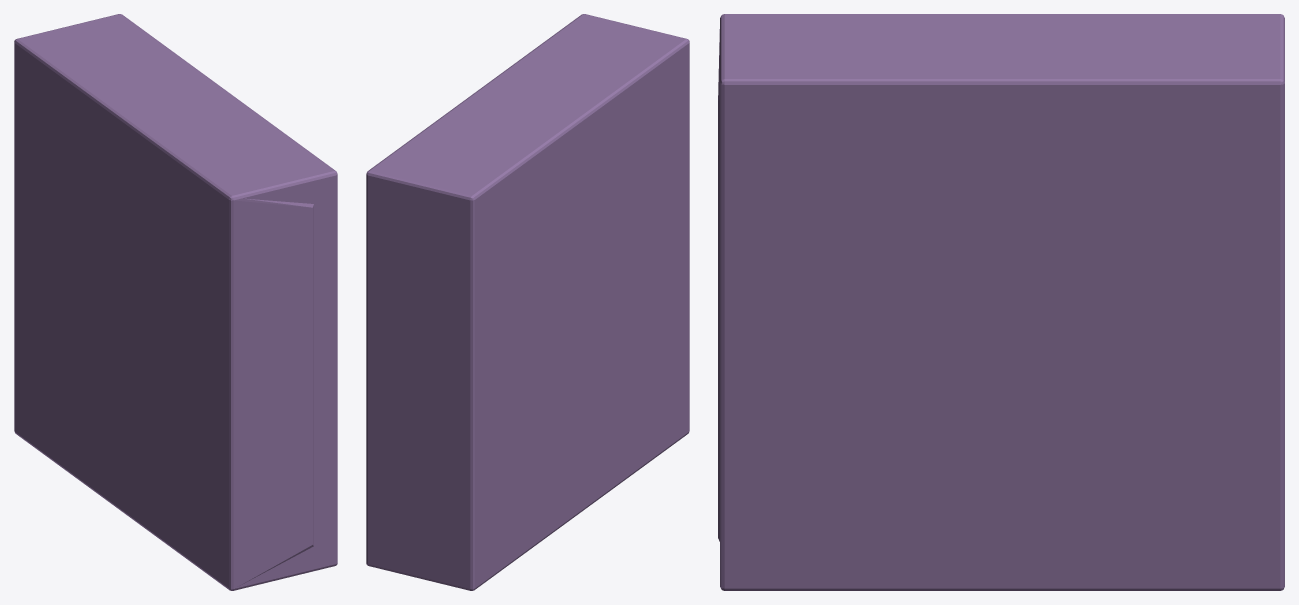
File: food_processed_boxedFood_b01.glb
3 renders of one model, left to right at view 1: azimuth 30°, elevation 25°; view 2: azimuth 150°, elevation 25°; view 3: azimuth 270°, elevation 25°, orthographic. The views are drawn at different scales.
Visible parts, largest first — view 1: geometry_0; view 2: geometry_0; view 3: geometry_0.
Part boxes in pixels (x1,y1,x2,y2): geometry_0: [14, 14, 337, 590]; geometry_0: [366, 14, 689, 590]; geometry_0: [718, 14, 1284, 590].
Size of the model in its own units: 0.1374 by 0.4782 by 0.48.
